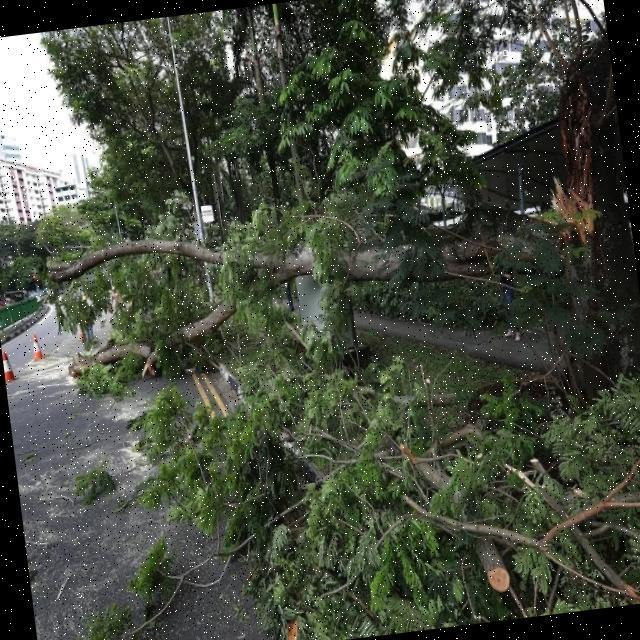fallen_object: (28, 154, 640, 384)
